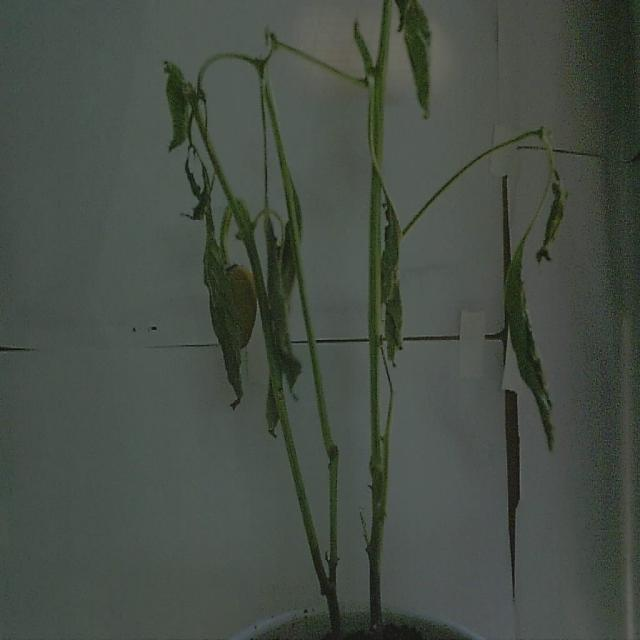Leaf: (504, 229, 555, 457), (202, 220, 247, 408), (262, 213, 302, 407), (392, 0, 431, 118), (380, 200, 402, 362), (162, 60, 195, 155), (536, 172, 566, 260)
